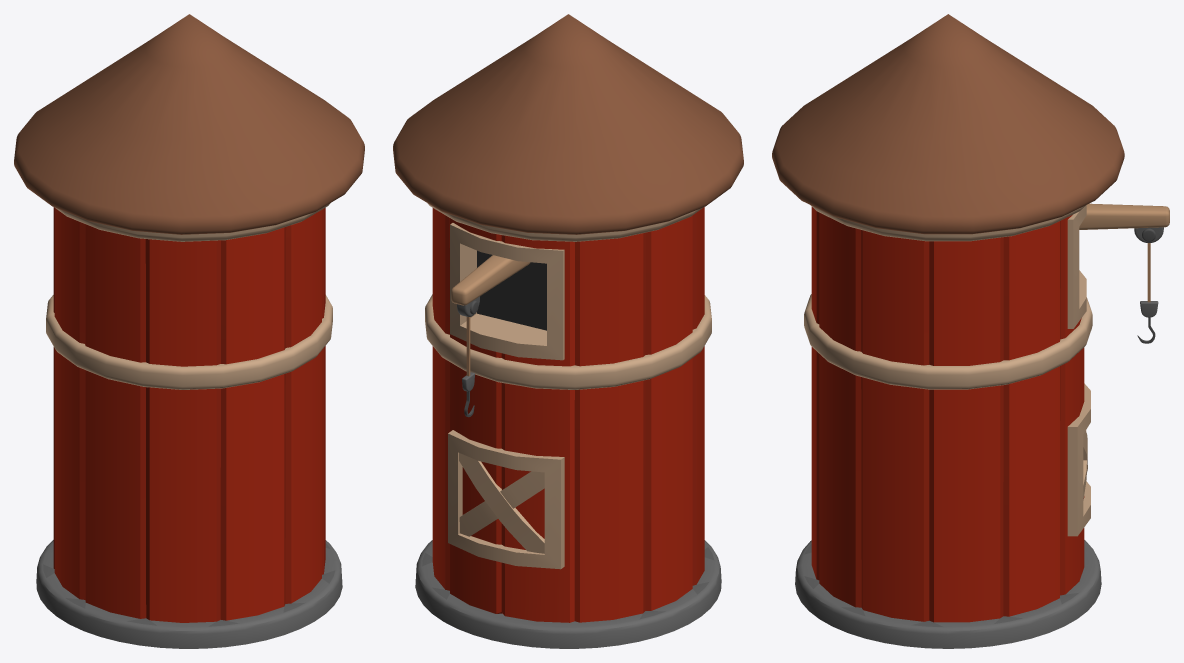
Rendered from Building6.fbx.
3 views of the same model, side by side, from view 1: azimuth 30°, elevation 25°; view 2: azimuth 150°, elevation 25°; view 3: azimuth 270°, elevation 25° (orthographic).
Parts seen in each view (by area): view 1: Cylinder.004; view 2: Cylinder.004; view 3: Cylinder.004.
Boxes of the visible parts, x1,y1,x2,y2 form: Cylinder.004: (14, 14, 364, 648); Cylinder.004: (393, 14, 743, 648); Cylinder.004: (772, 14, 1169, 648).
Size of the model in its own units: 8.59 by 9.79 by 15.48.
